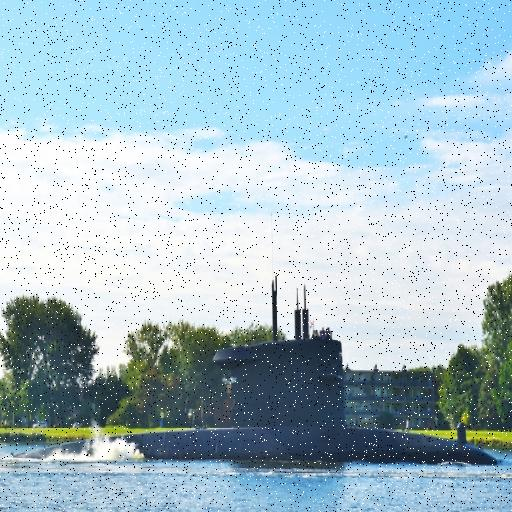submarine: (1, 278, 505, 470)
